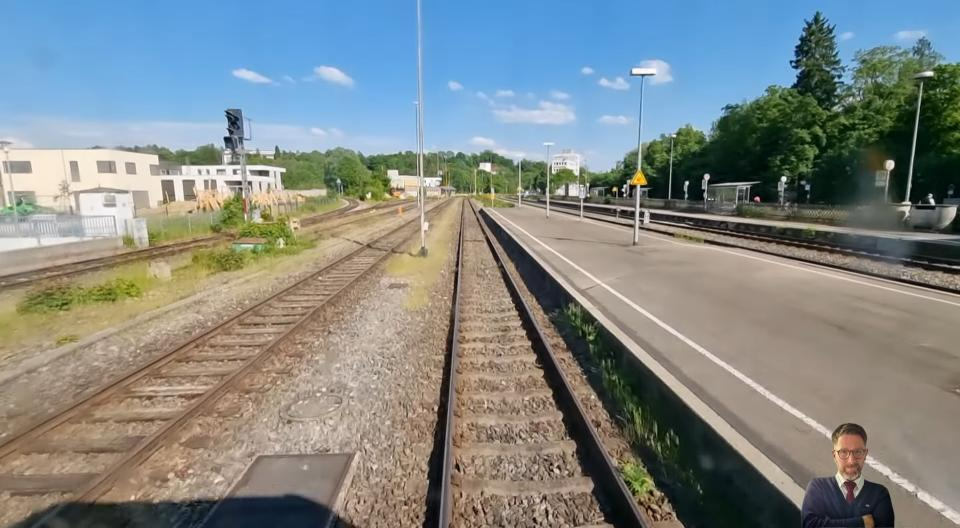Plant: (561, 305, 700, 492), (385, 238, 452, 310), (619, 457, 656, 496)
